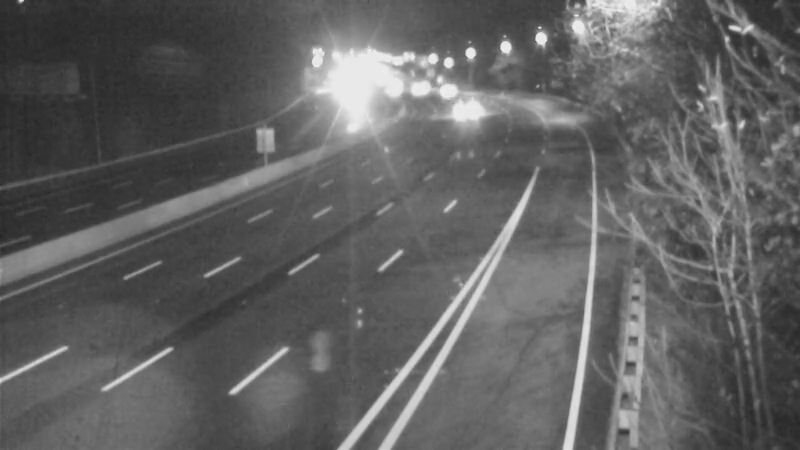vehicle: (426, 67, 476, 117), (441, 84, 491, 134)
